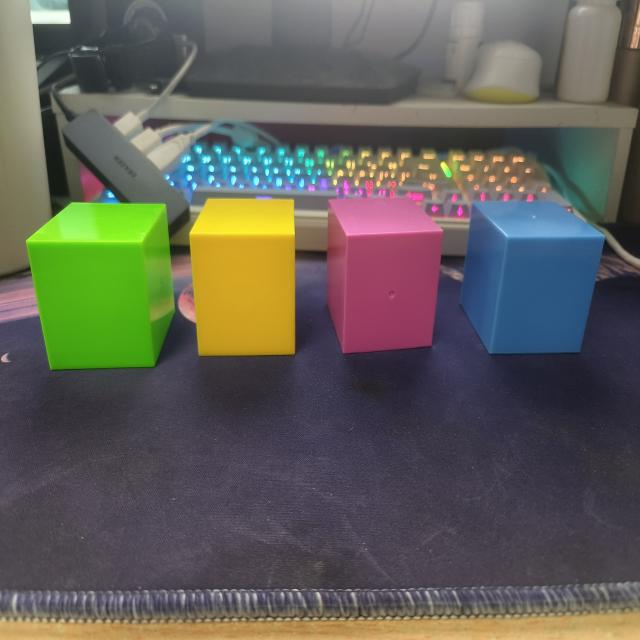blue: (460, 200, 606, 359)
green: (25, 200, 174, 373)
pink: (327, 197, 444, 357)
yellow: (189, 197, 296, 359)
